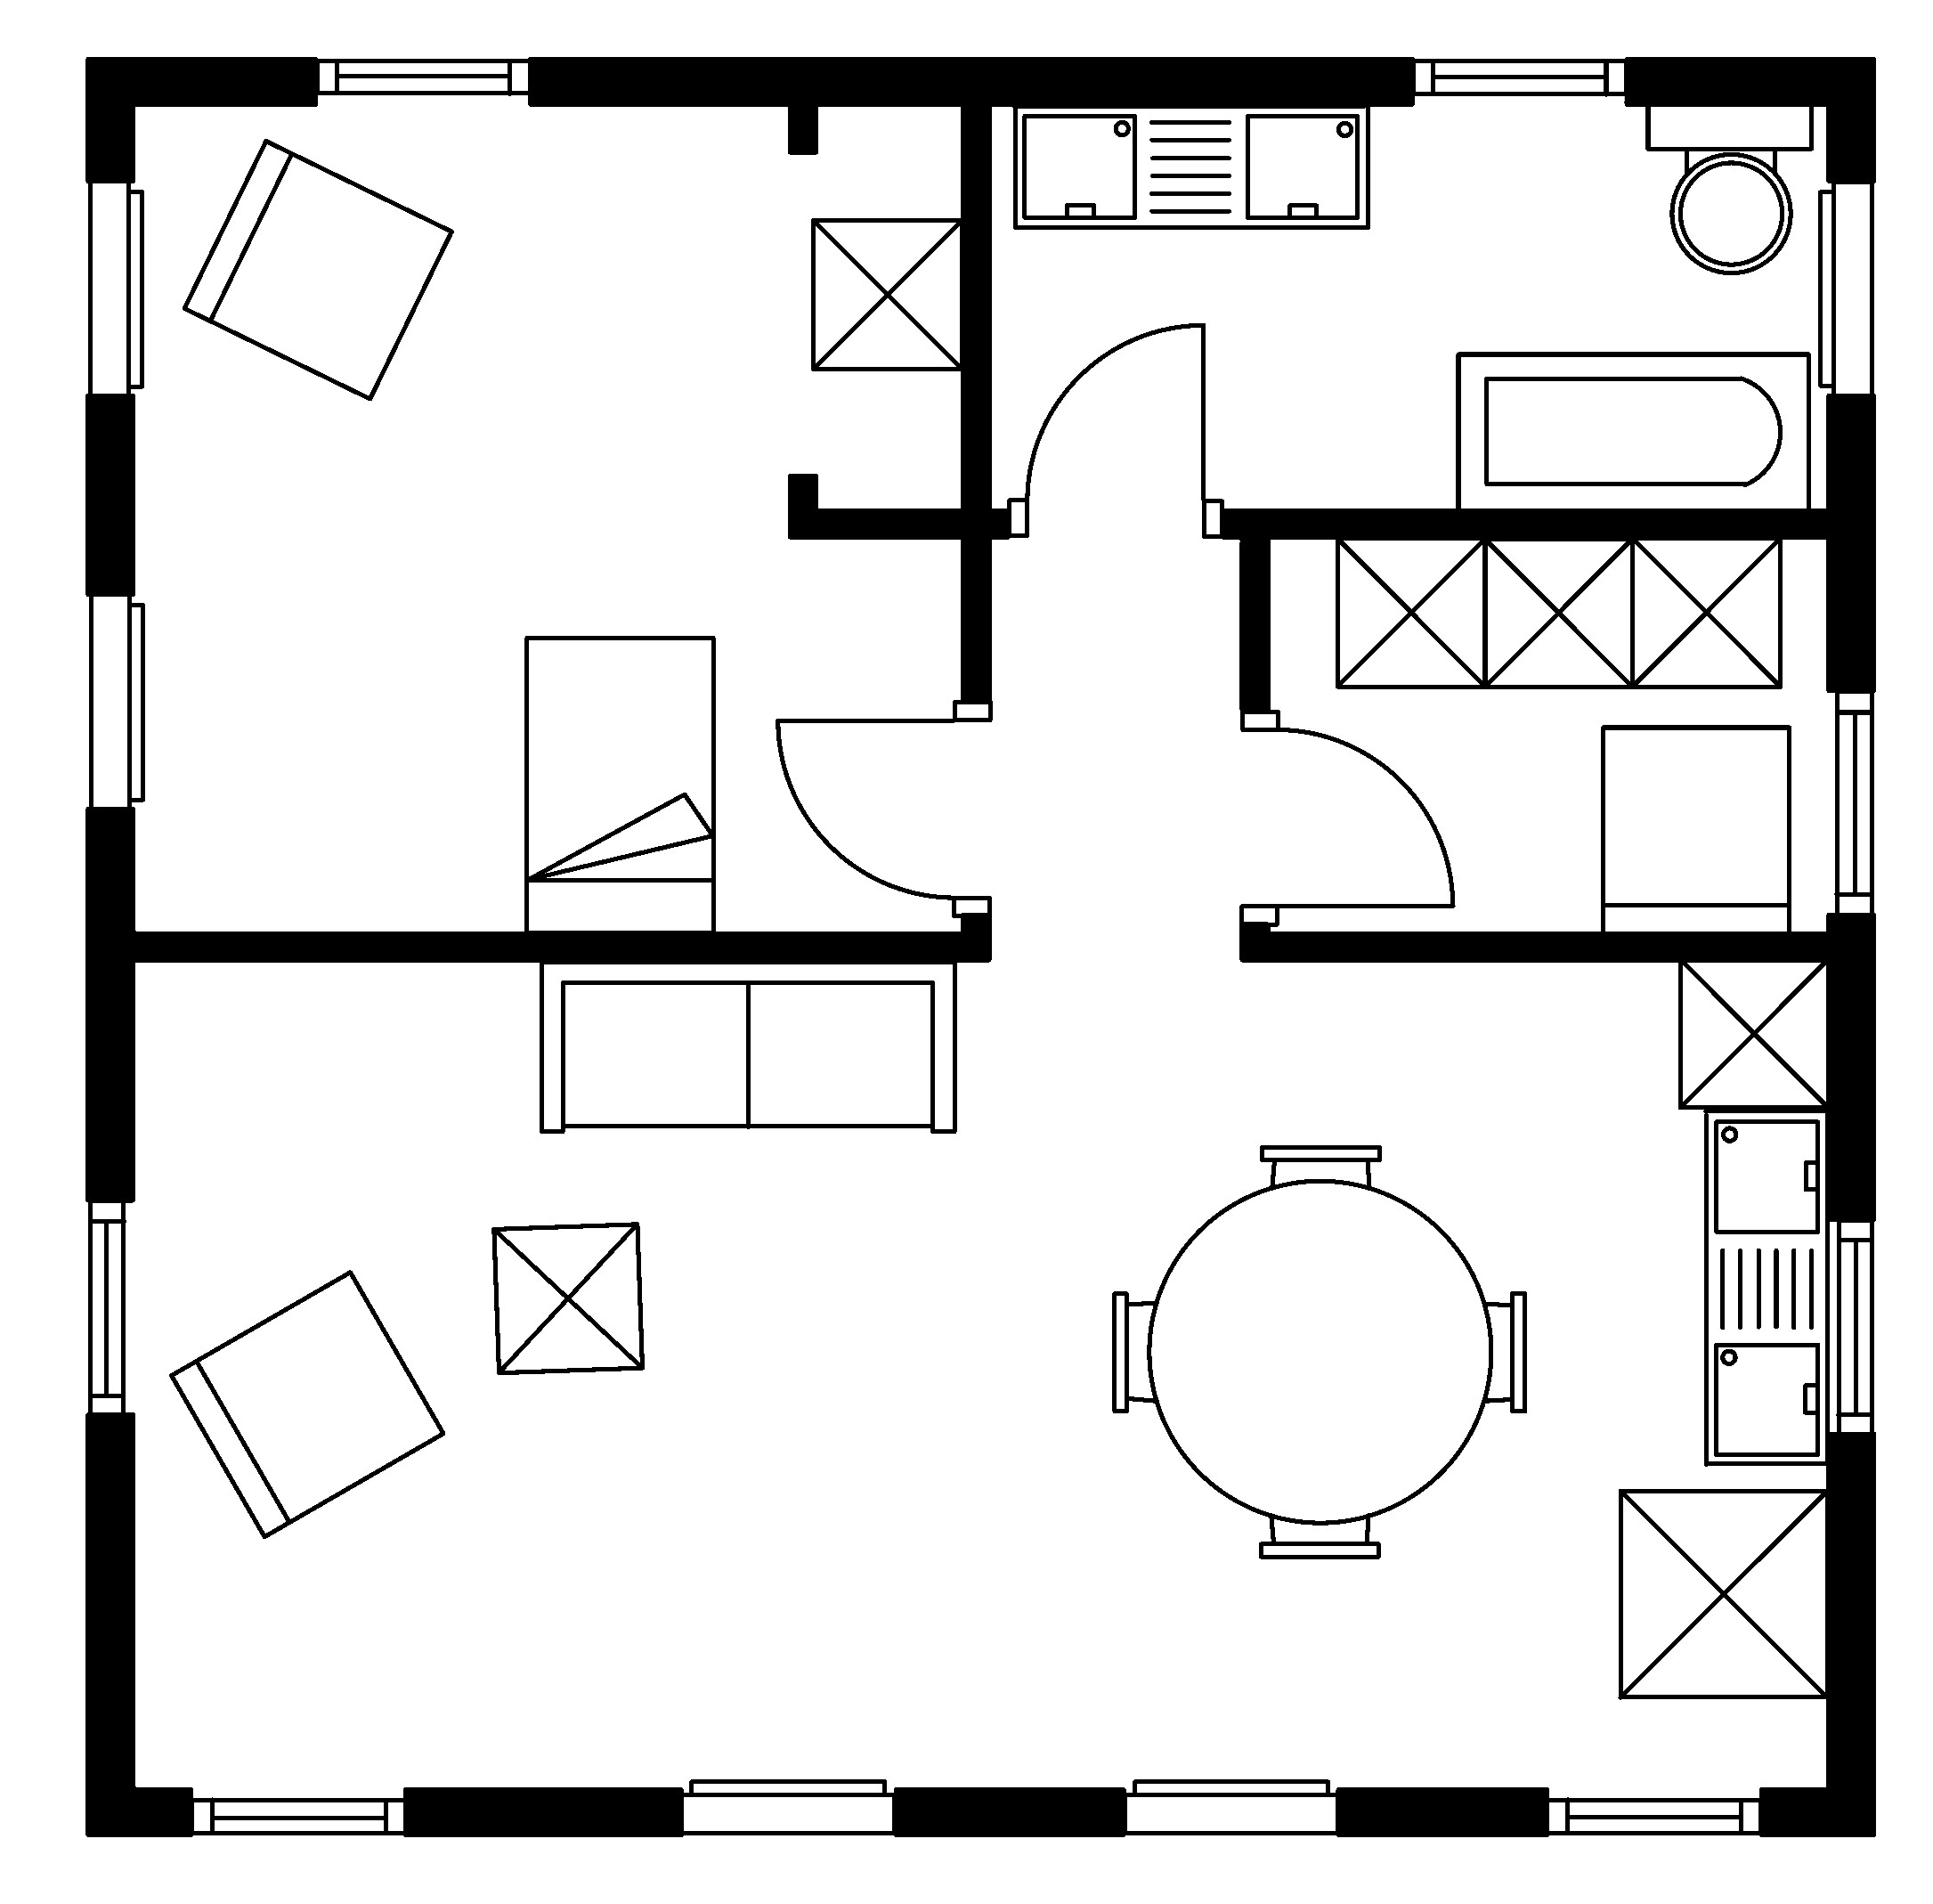bed: (521, 635, 716, 936)
coffee_table: (1616, 1487, 1830, 1702), (809, 216, 966, 371), (490, 1221, 645, 1376), (1480, 534, 1635, 689), (1628, 534, 1783, 689), (1333, 534, 1489, 689), (1675, 955, 1830, 1111)
large_sink: (1644, 101, 1814, 274)
large_sofa: (537, 959, 957, 1135)
round_table: (1110, 1144, 1529, 1559)
small_sofa: (167, 1268, 446, 1540), (180, 138, 455, 401), (1598, 724, 1792, 936)
tub: (1454, 350, 1811, 513)
twin_sink: (1011, 101, 1372, 230), (1701, 1107, 1830, 1468)
